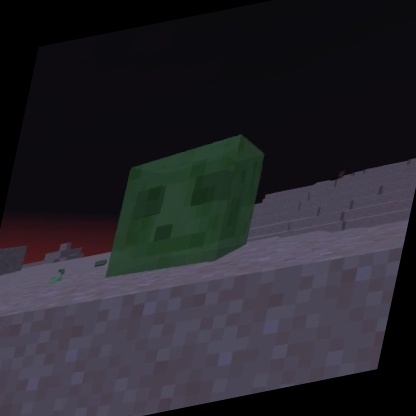slime: (99, 122, 277, 286)
